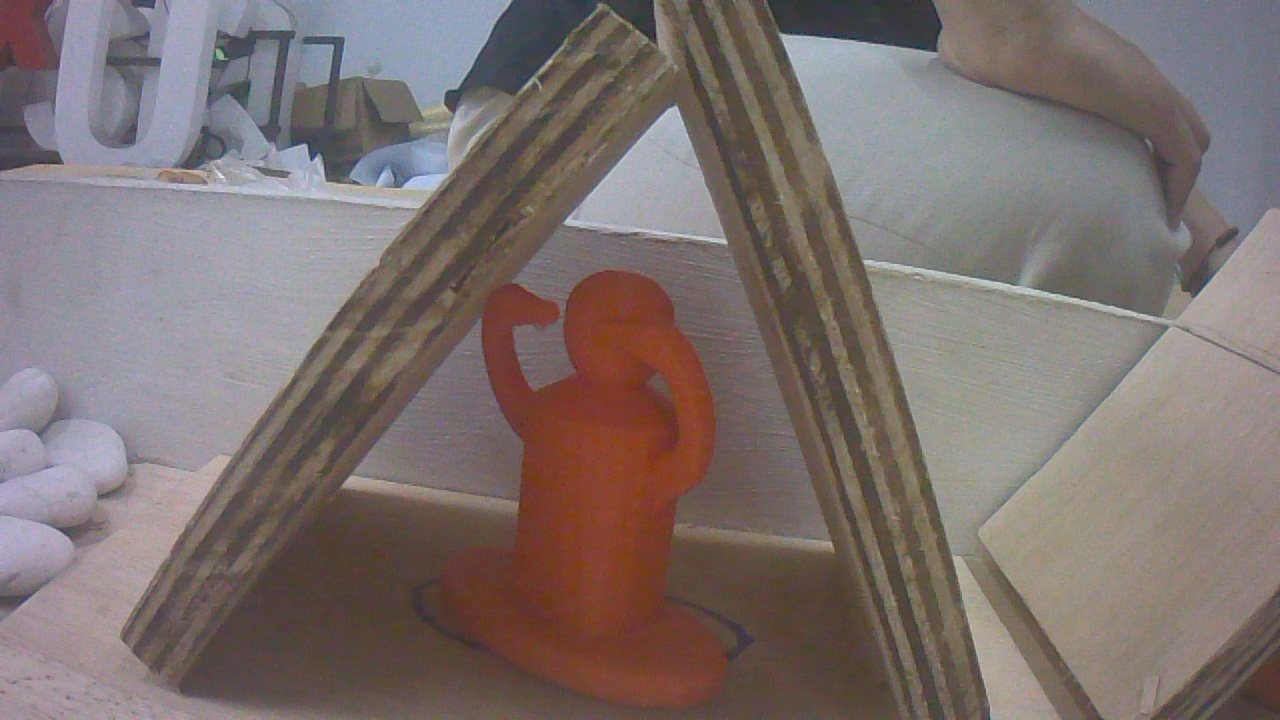real: (420, 249, 737, 717)
